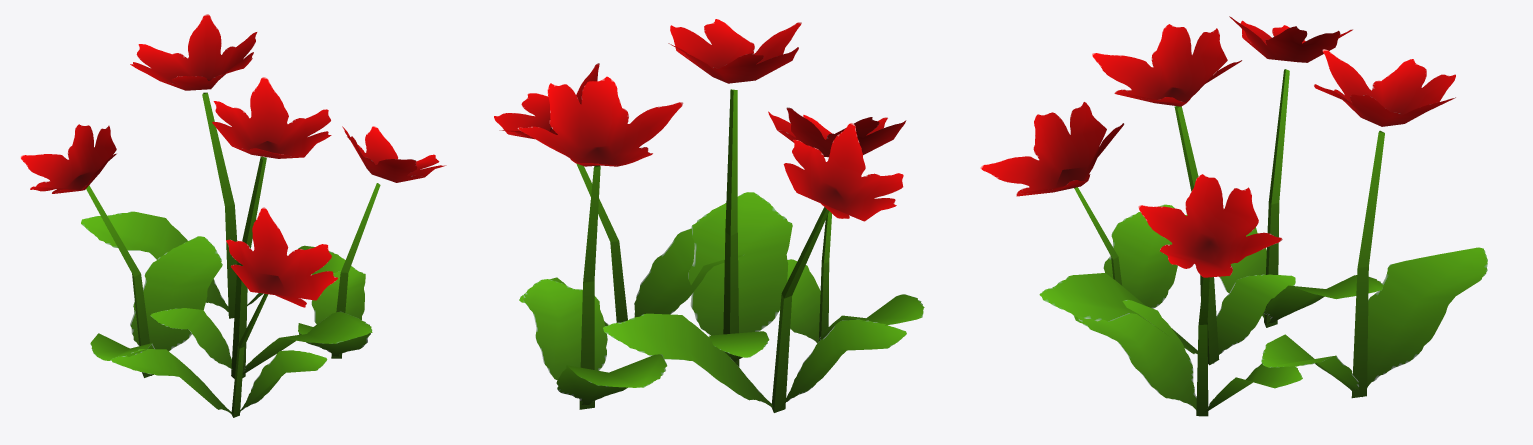
File: Flower_3.fbx
3 views of the same model, side by side, from view 1: azimuth 30°, elevation 25°; view 2: azimuth 150°, elevation 25°; view 3: azimuth 270°, elevation 25° (orthographic). The views are drawn at different scales.
Parts seen in each view (by area): view 1: Flower 3; view 2: Flower 3; view 3: Flower 3.
Boxes of the visible parts, x1,y1,x2,y2 form: Flower 3: [20, 14, 446, 417]; Flower 3: [494, 19, 924, 412]; Flower 3: [980, 16, 1487, 416].
Size of the model in its own units: 94.31 by 66.84 by 99.57.
